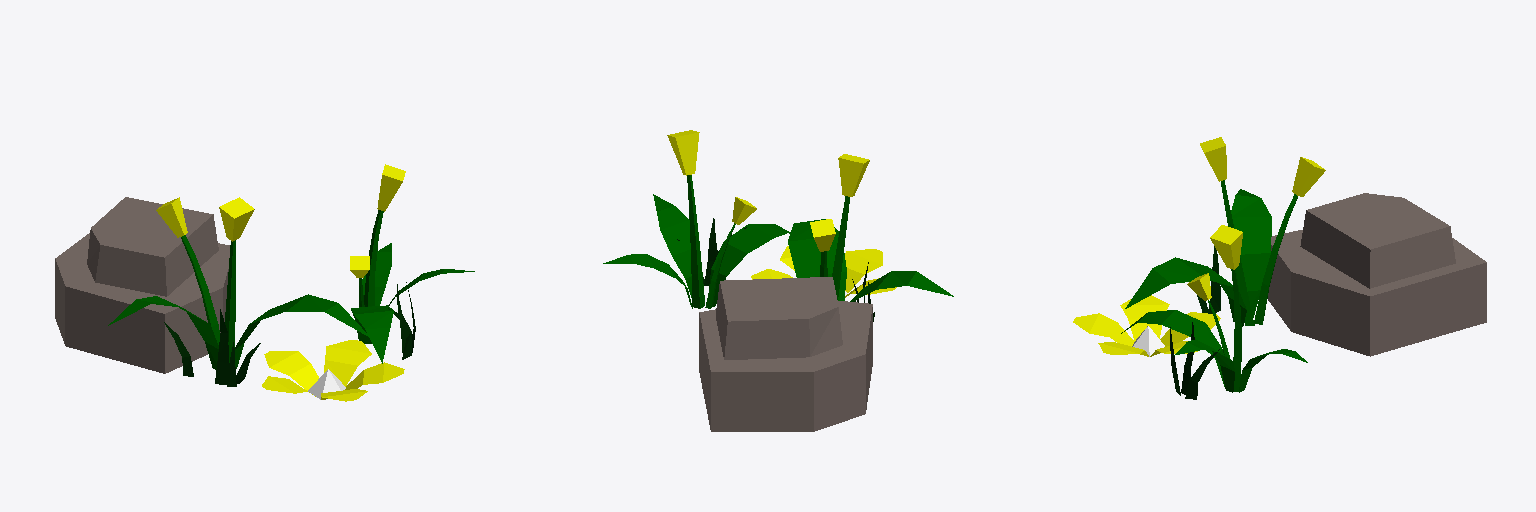
Rendered from Mix24.obj.
The picture shows the model from 3 angles: view 1: azimuth 30°, elevation 25°; view 2: azimuth 150°, elevation 25°; view 3: azimuth 270°, elevation 25°; orthographic projection.
Parts seen in each view (by area): view 1: Mix_24; view 2: Mix_24; view 3: Mix_24.
Boxes of the visible parts, box(x1,y1,x2,y2) form: Mix_24: box(55, 164, 474, 401); Mix_24: box(603, 130, 953, 431); Mix_24: box(1073, 137, 1486, 399).
Size of the model in its own units: 0.1429 by 0.0725 by 0.1527.